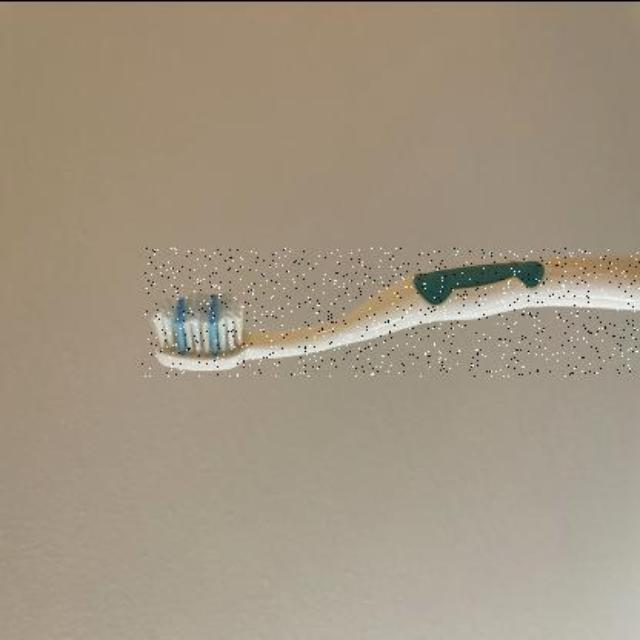toothbrush: (142, 247, 640, 376)
